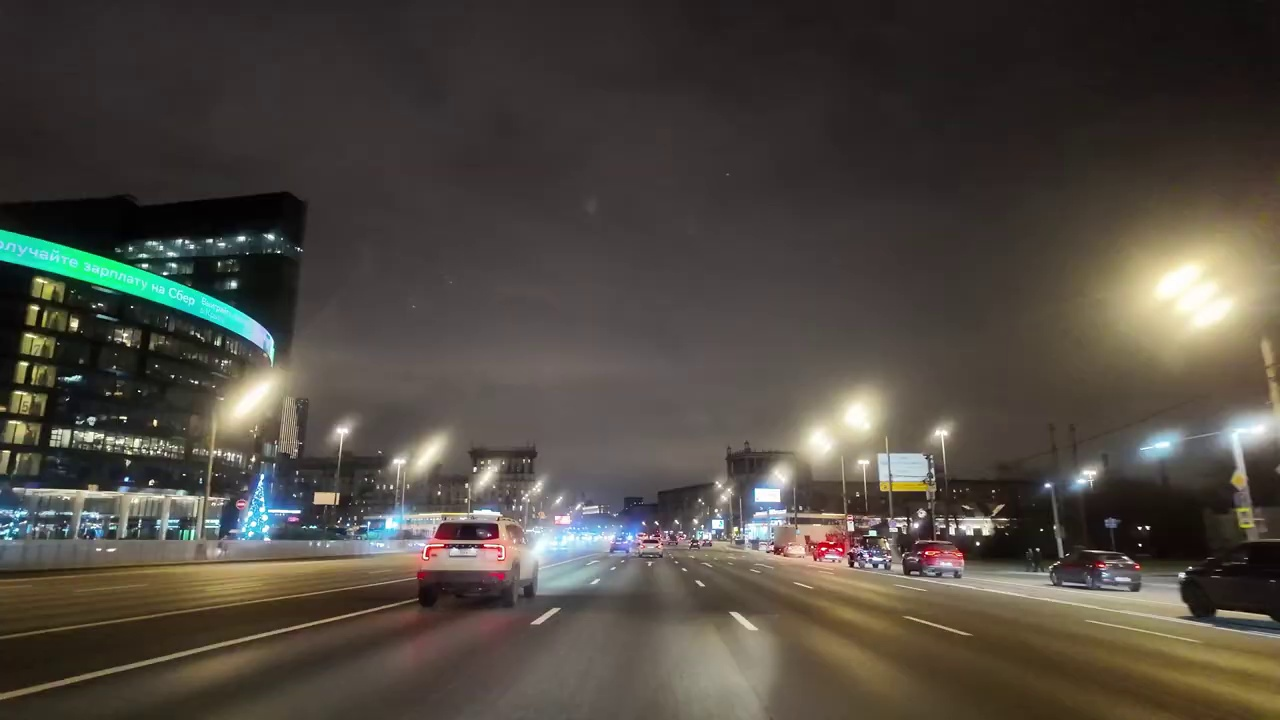acesa: (1151, 259, 1238, 334), (805, 393, 881, 461), (223, 377, 278, 426), (835, 392, 882, 445), (404, 433, 446, 475), (327, 418, 359, 450)
